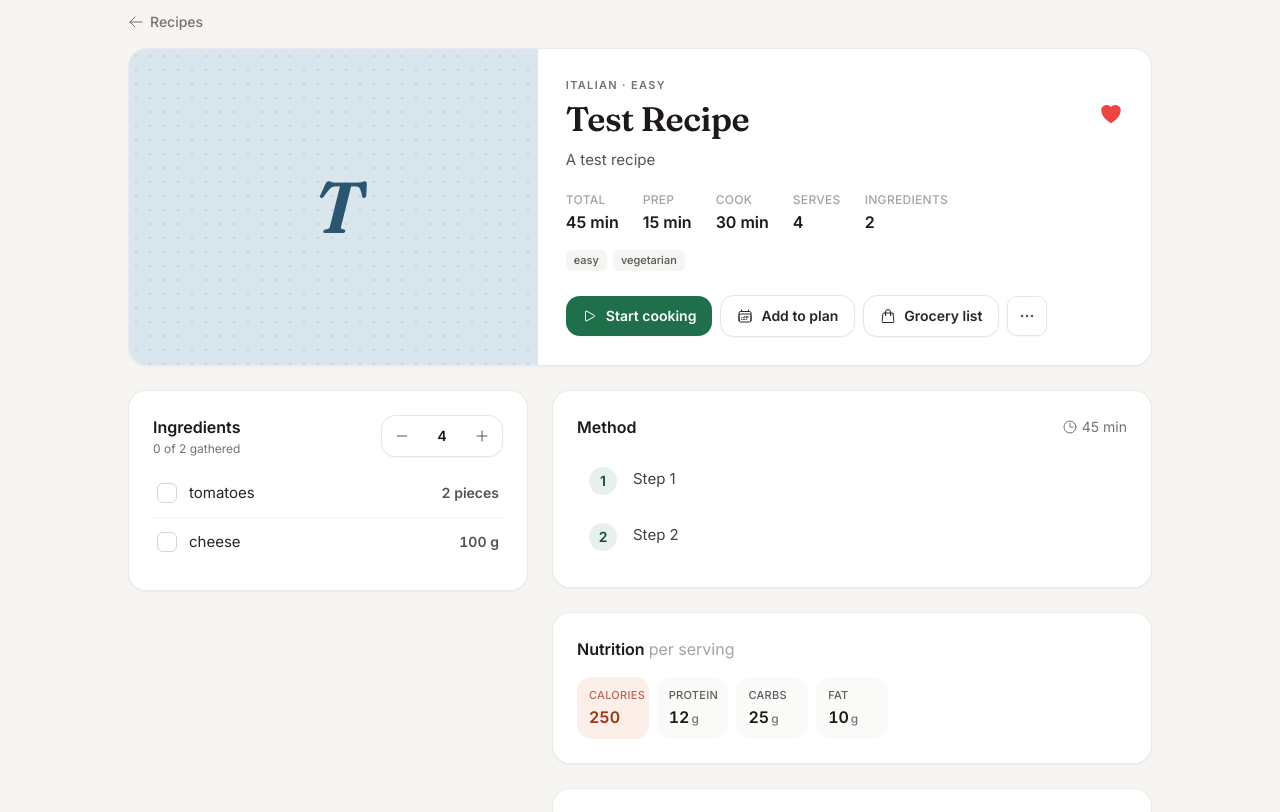
Test: RecipeDetailPage › renders the hero, scaled ingredients and prior feedback
Expected: the heading "Test Recipe" is shown, [566, 98, 749, 140]
Expected: the text "Italian · Easy" is shown, [566, 78, 666, 92]
Click the button named "Increase servings": (482, 436) [464, 418, 500, 454]
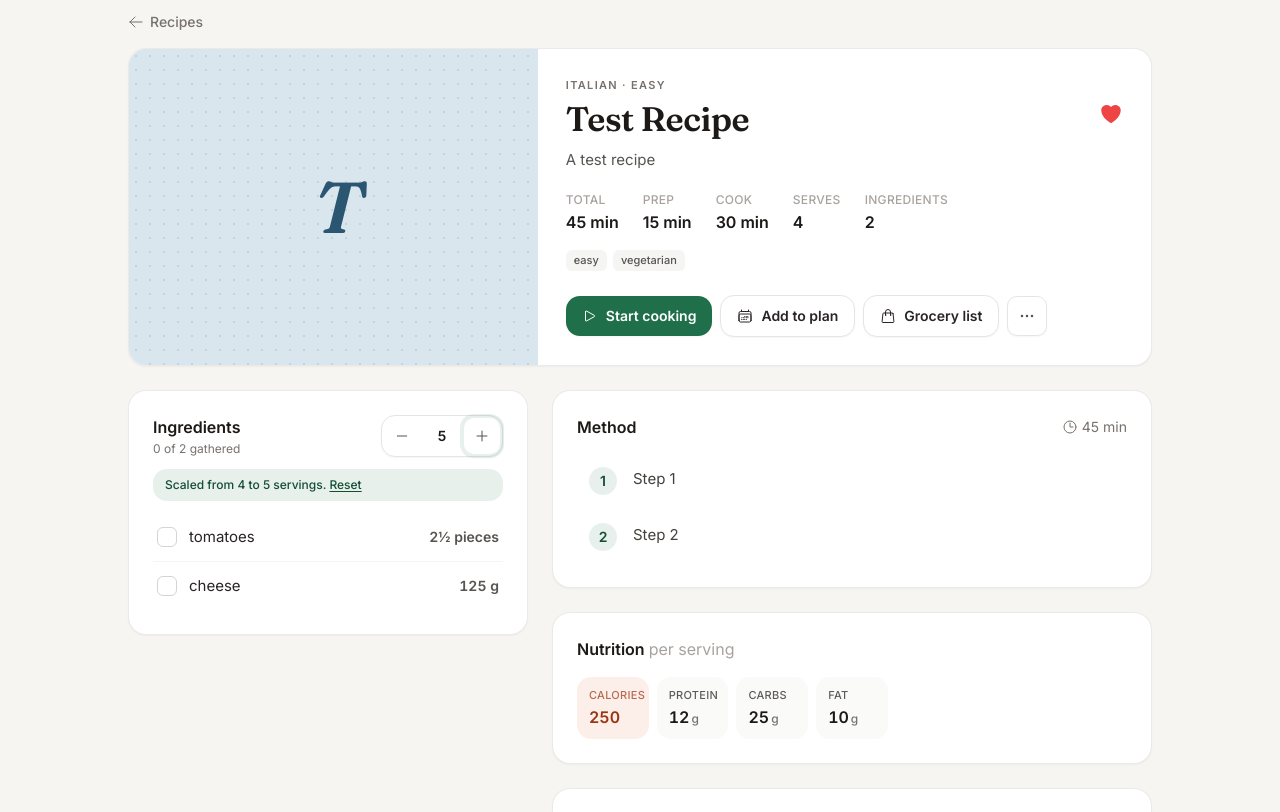
Click the button named "Increase servings": (482, 436) [464, 418, 500, 454]
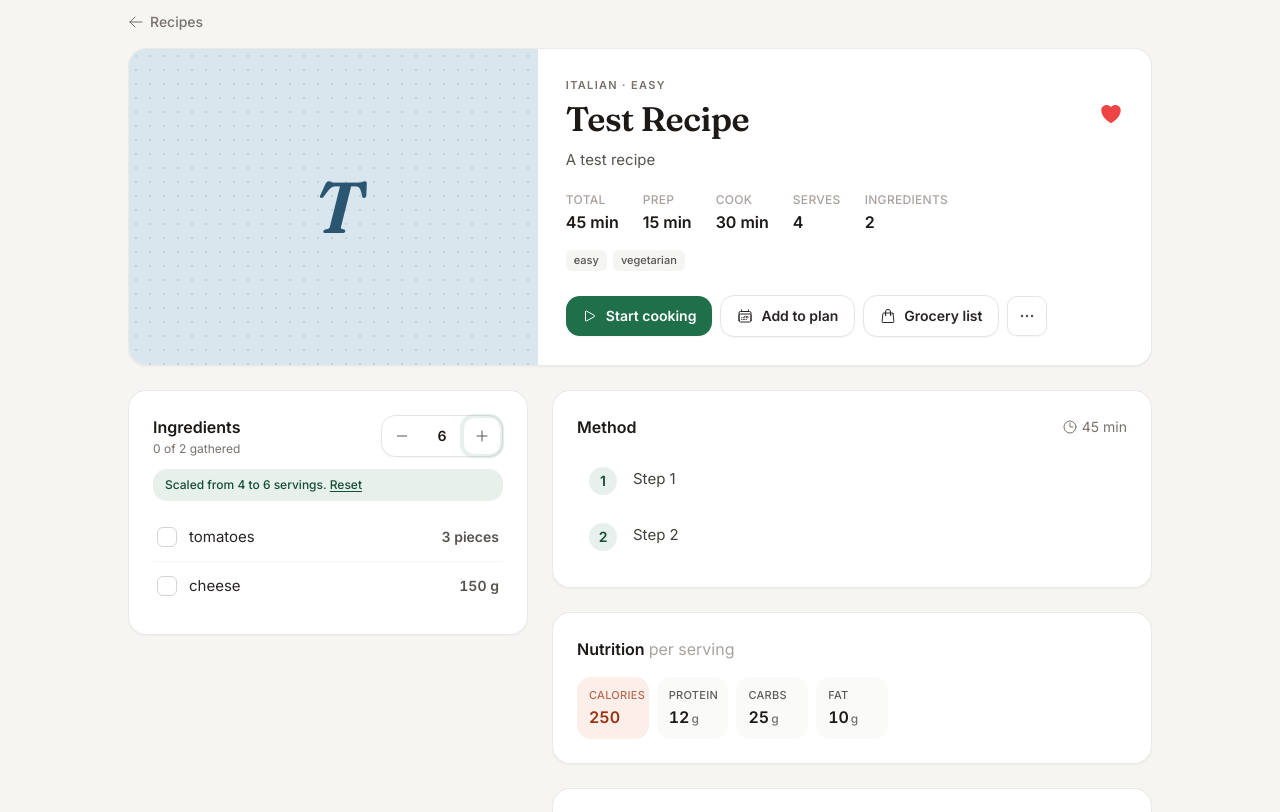
Click the button named "Increase servings": (482, 436) [464, 418, 500, 454]
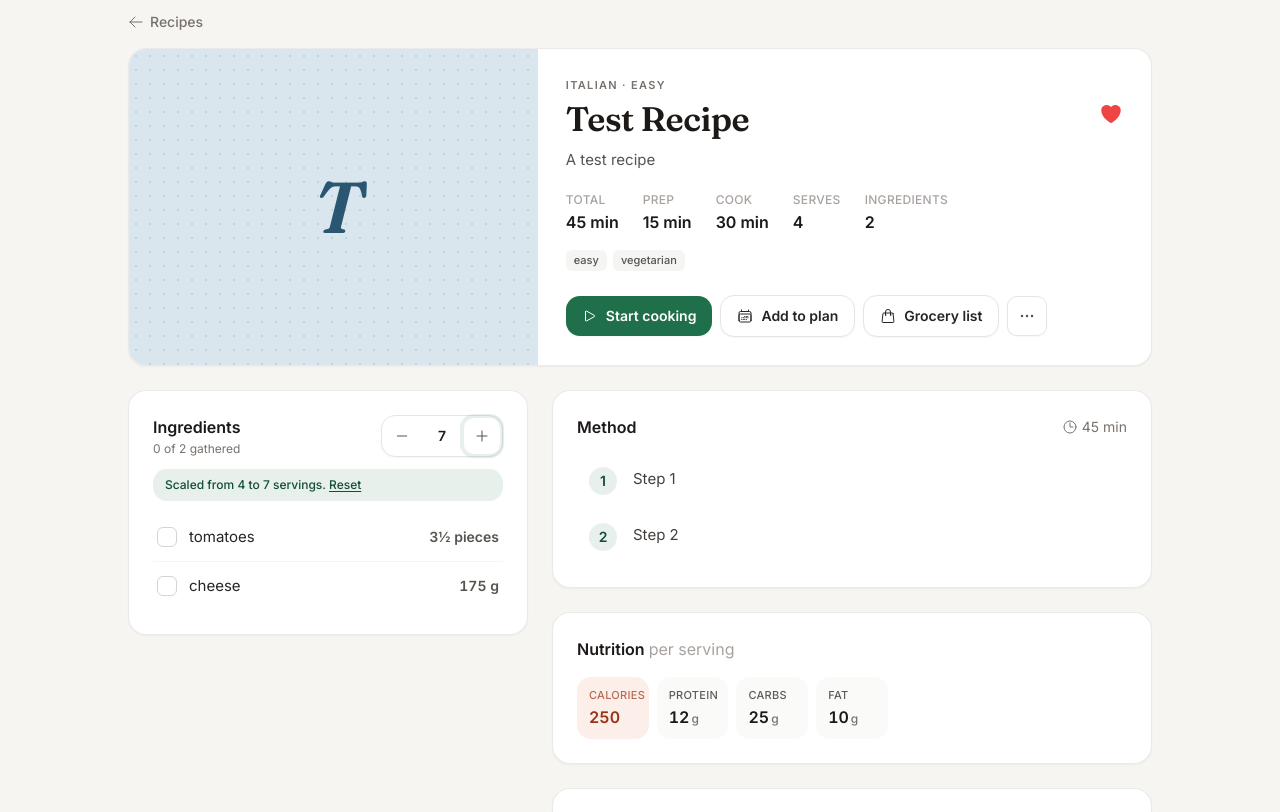
Click the button named "Increase servings": (482, 436) [464, 418, 500, 454]
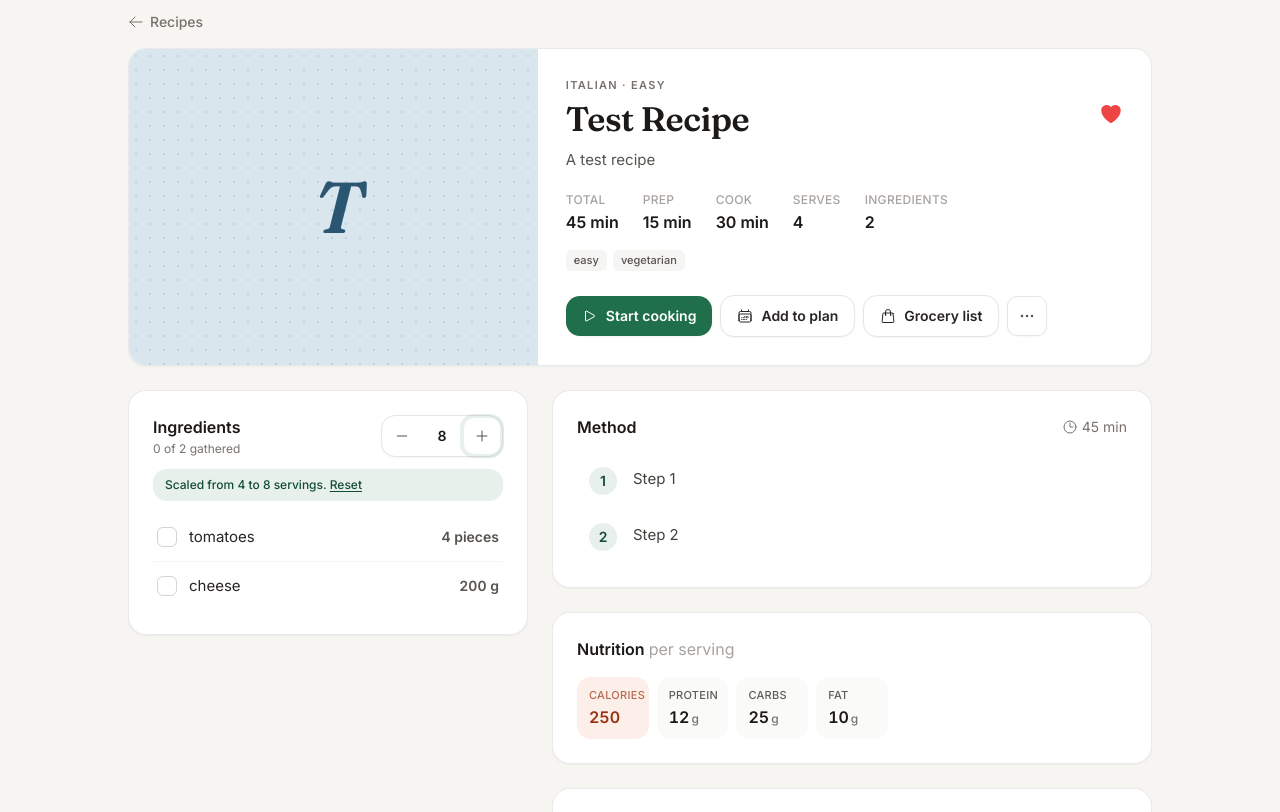
Expected: the text "200 g" is shown, [459, 576, 499, 596]
Expected: the text "Scaled from 4 to 8 servings. Reset" is shown, [153, 469, 503, 501]
Click the checkbox labelled "tomatoes 4 pieces": (222, 536) [157, 527, 499, 547]
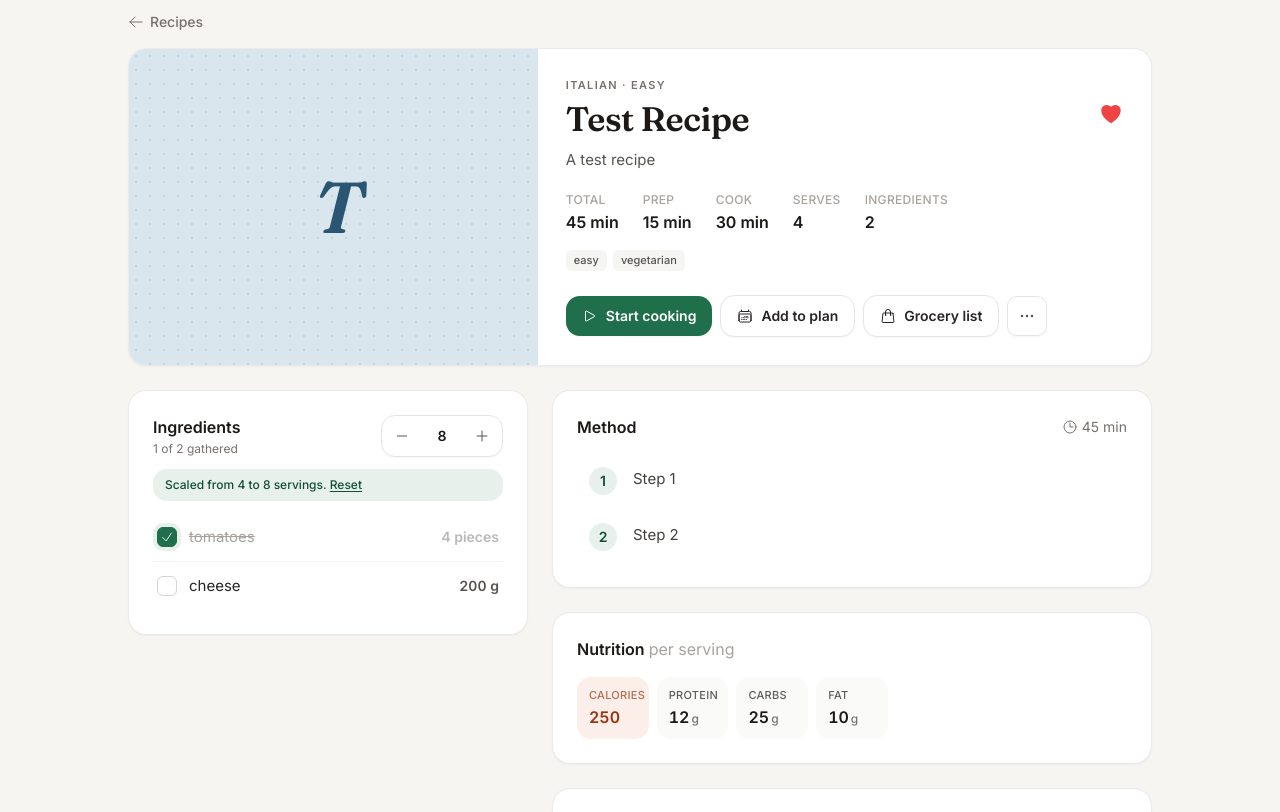
Expected: the text "1 of 2 gathered" is shown, [153, 441, 240, 457]
